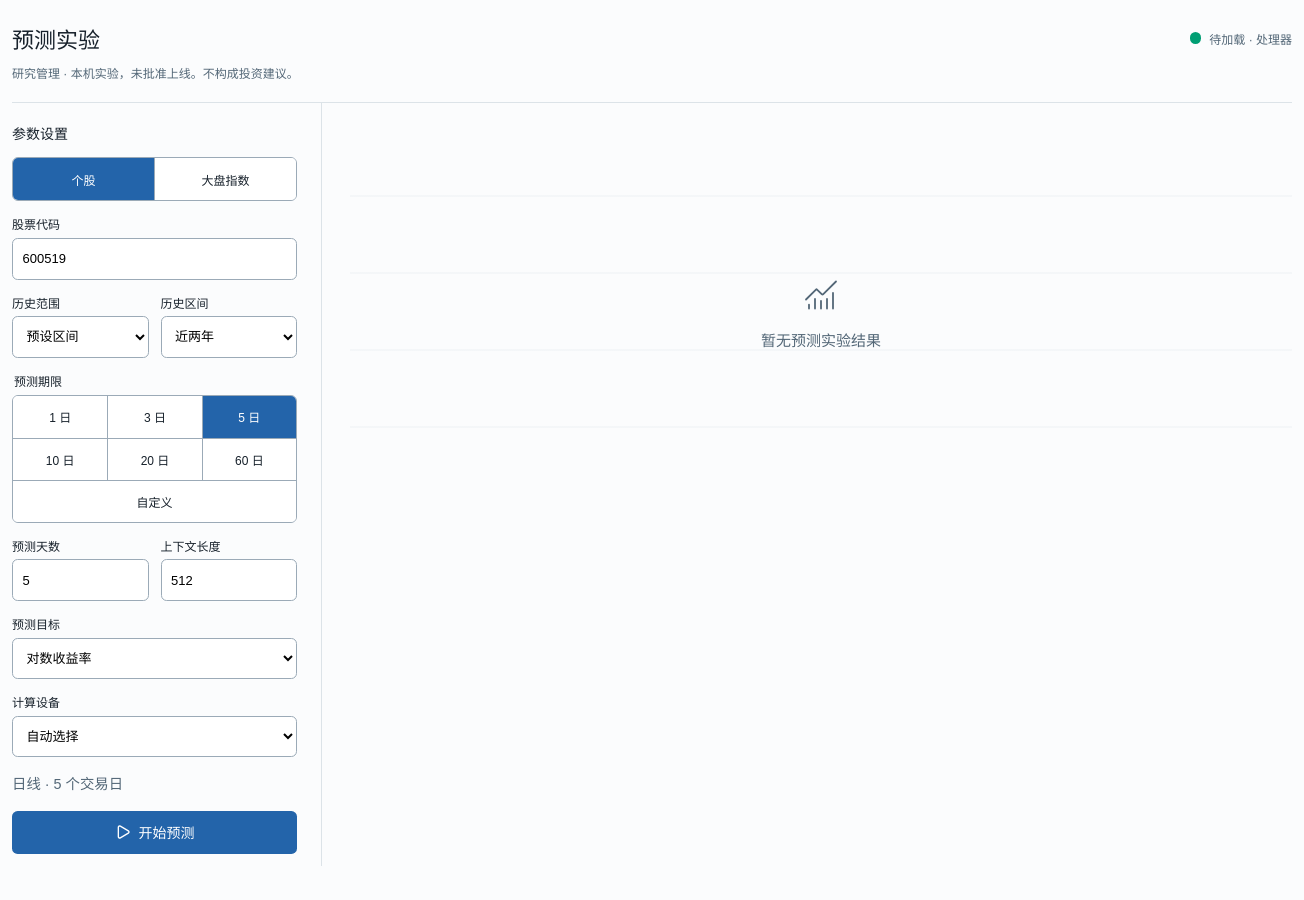
extracted legacy capabilities on independent pages › renders differentiated model errors
The image size is (1304, 900).
Click the button "开始预测" at (154, 832), box [12,811,297,854]
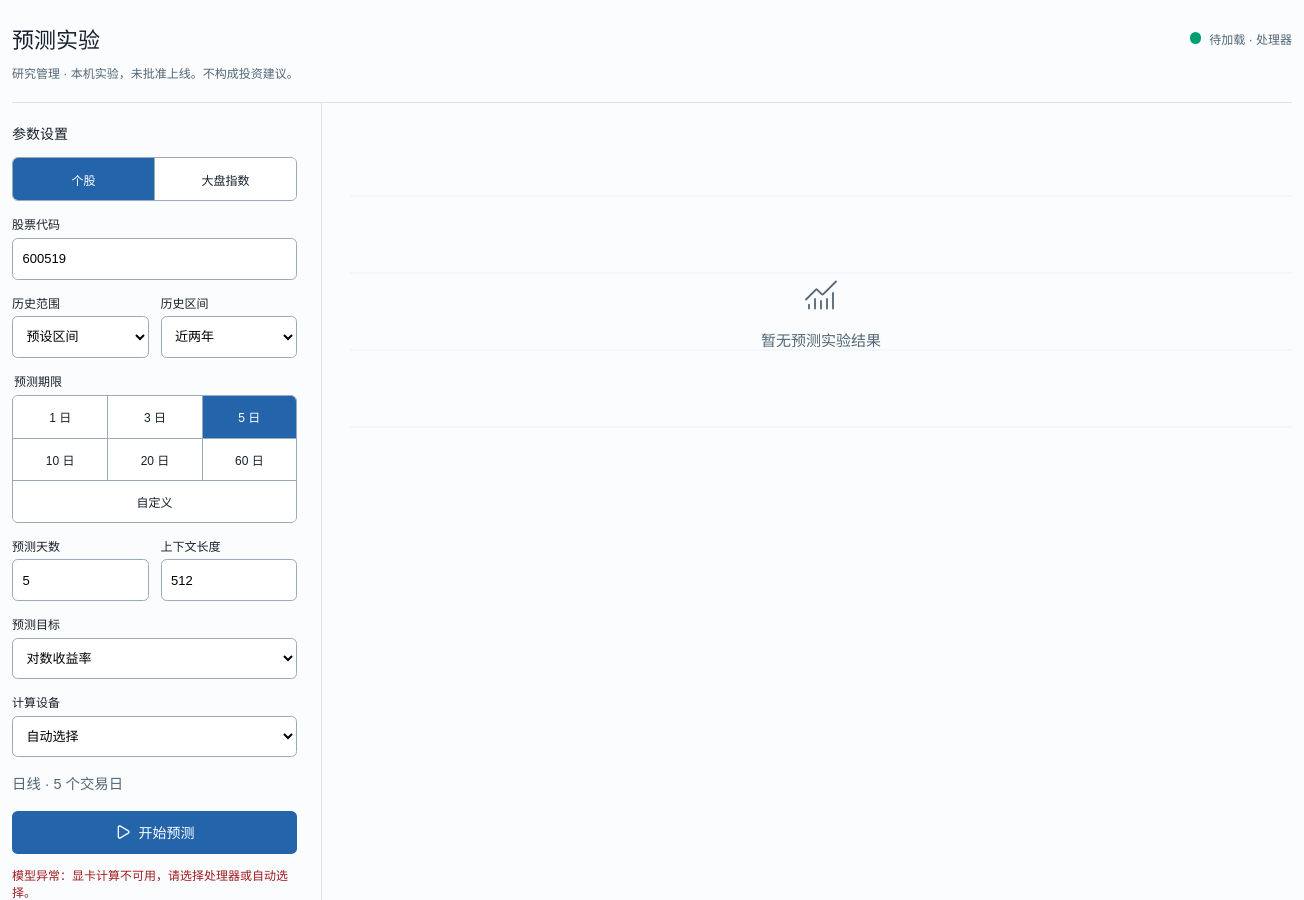
Now the message shows "显卡计算不可用", box [12,869,288,899]
